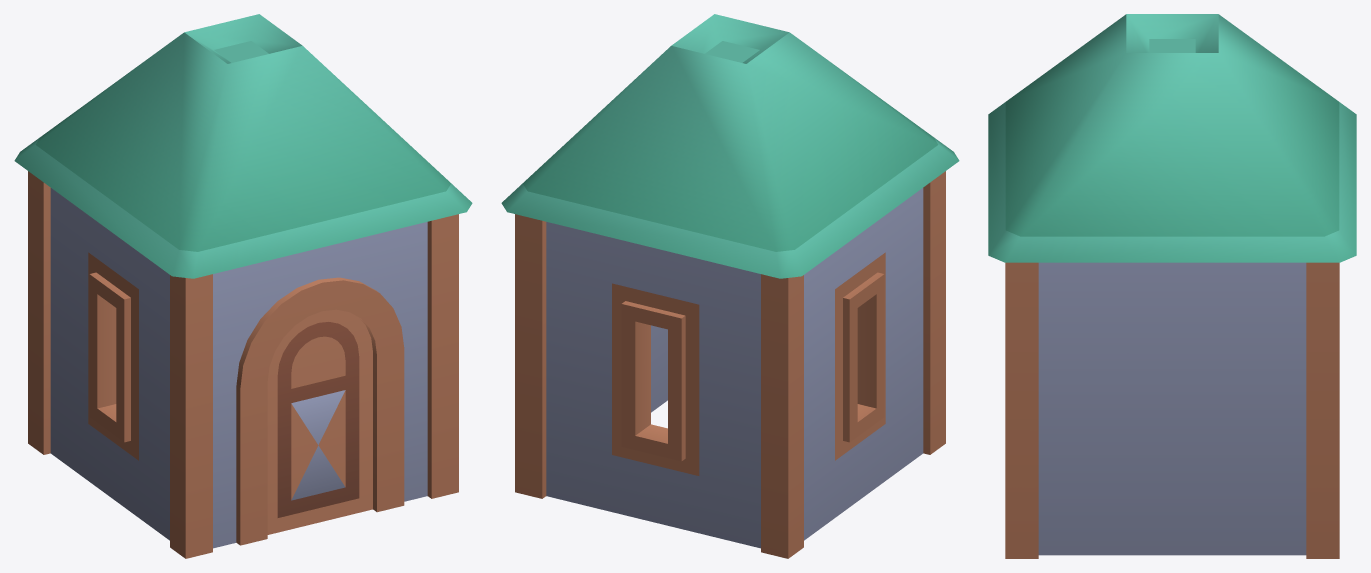
File: house-hut.glb
The picture shows the model from 3 angles, left to right: view 1: azimuth 30°, elevation 25°; view 2: azimuth 150°, elevation 25°; view 3: azimuth 270°, elevation 25°; orthographic projection. The views are drawn at different scales.
Parts seen in each view (by area): view 1: roof-point, wall-door, wall-window-small.001, door, wall; view 2: wall-window-small, roof-point, wall-window-small.001, wall, wall-door; view 3: wall, roof-point, wall-window-small, wall-door.
Boxes of the visible parts, bbox=[...] form: roof-point: bbox=[14, 14, 472, 278]; wall-door: bbox=[170, 214, 458, 558]; wall-window-small.001: bbox=[28, 171, 212, 558]; door: bbox=[267, 309, 372, 534]; wall: bbox=[427, 214, 458, 498]; wall-window-small: bbox=[515, 214, 788, 558]; roof-point: bbox=[501, 14, 959, 278]; wall-window-small.001: bbox=[770, 188, 923, 558]; wall: bbox=[515, 214, 667, 498]; wall-door: bbox=[923, 171, 945, 454]; wall: bbox=[1005, 262, 1339, 558]; roof-point: bbox=[988, 14, 1356, 262]; wall-window-small: bbox=[1306, 263, 1339, 558]; wall-door: bbox=[1005, 262, 1038, 558].
Bounding box in the file's own units: 1.1 × 1.5 × 1.1.
Materials: 5 (5 with a texture image).
